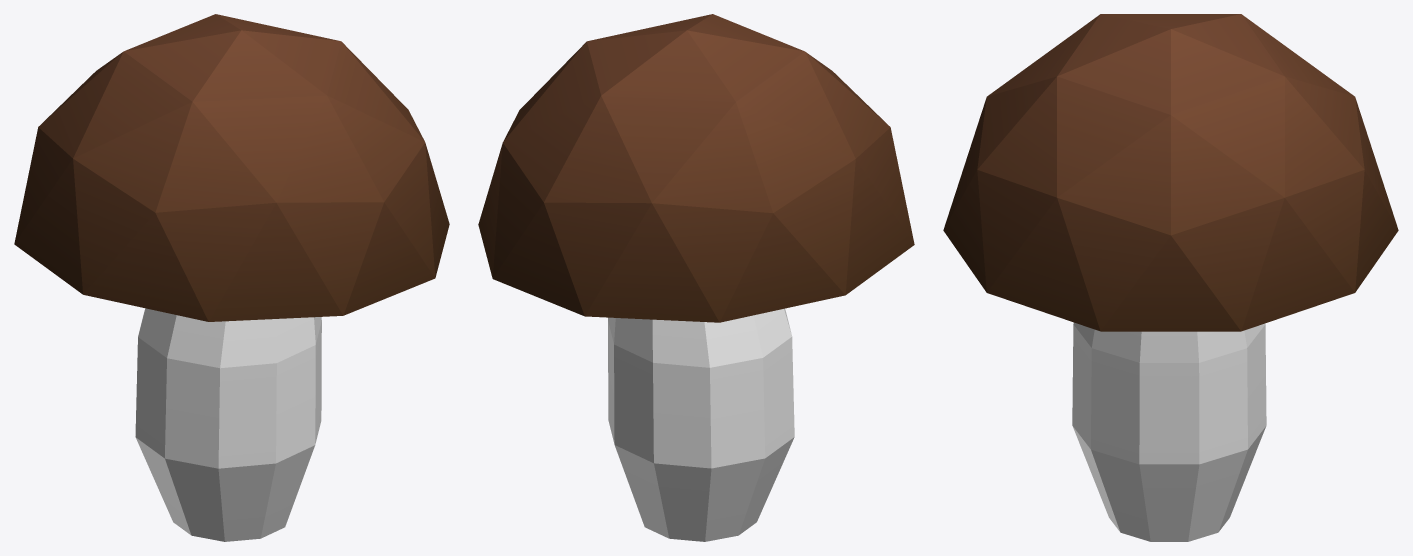
The model's file is Mushroom_big_brown.fbx.
3 views of the same model, side by side, from view 1: azimuth 30°, elevation 25°; view 2: azimuth 150°, elevation 25°; view 3: azimuth 270°, elevation 25° (orthographic). The views are drawn at different scales.
Visible parts, largest first — view 1: Mushroom_big_brown; view 2: Mushroom_big_brown; view 3: Mushroom_big_brown.
Boxes of the visible parts, left/top/right/bottom form: Mushroom_big_brown: left=14, top=14, right=449, bottom=541; Mushroom_big_brown: left=478, top=14, right=914, bottom=541; Mushroom_big_brown: left=943, top=14, right=1398, bottom=541.
Size of the model in its own units: 0.4061 by 0.5118 by 0.4275.
